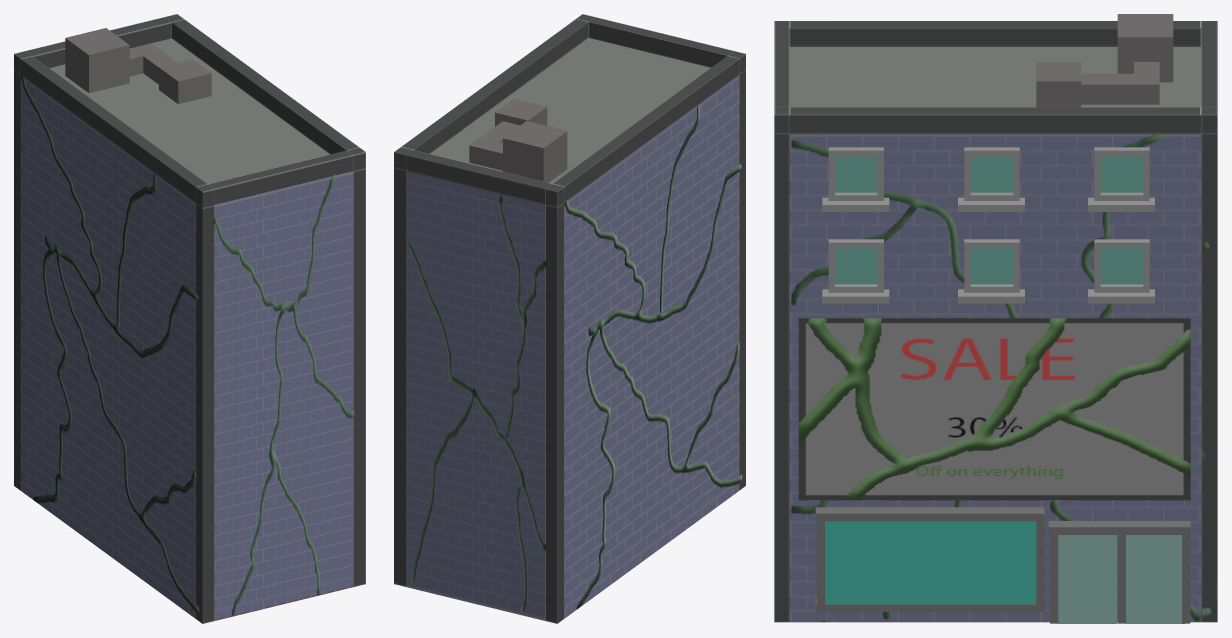
Rendered from tallapartmentwithshopblue.fbx.
3 renders of one model, left to right at view 1: azimuth 30°, elevation 25°; view 2: azimuth 150°, elevation 25°; view 3: azimuth 270°, elevation 25°, orthographic. The views are drawn at different scales.
Parts seen in each view (by area): view 1: polySurface307; view 2: polySurface307; view 3: polySurface307.
Part boxes in pixels (x1,y1,x2,y2): polySurface307: (14,14,365,623); polySurface307: (394,14,745,623); polySurface307: (774,14,1217,623).
Bounding box in the file's own units: 4.31 × 10.62 × 8.
